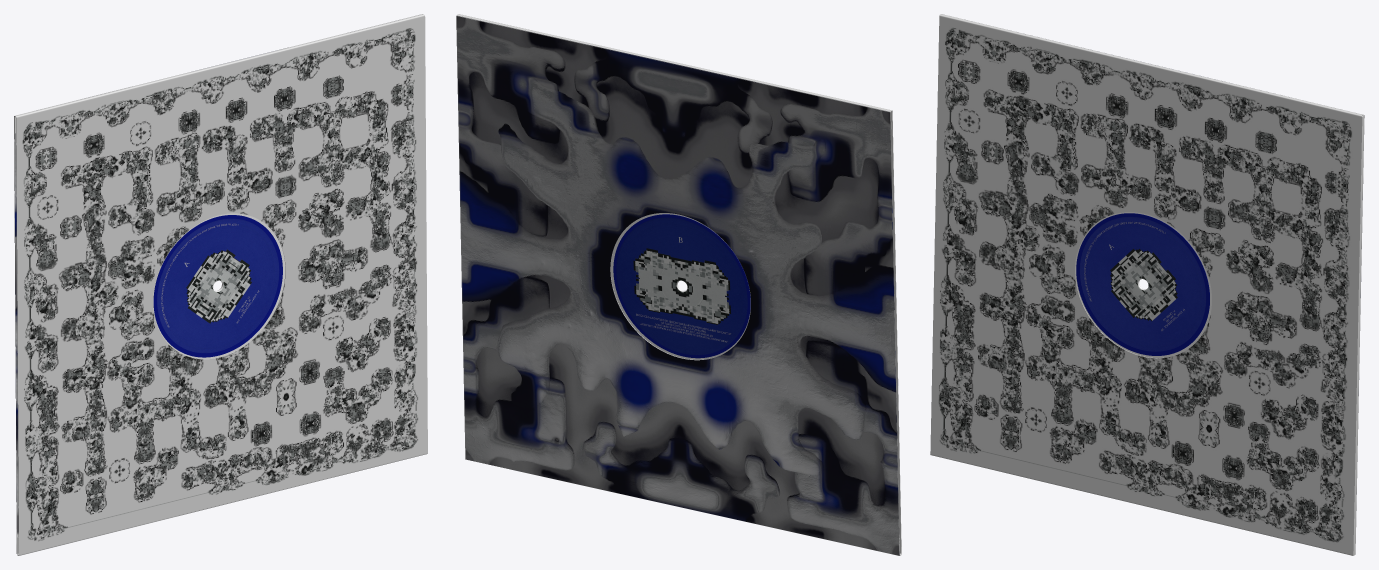
3 views of the same model, side by side, from view 1: azimuth 30°, elevation 25°; view 2: azimuth 150°, elevation 25°; view 3: azimuth 330°, elevation 25° (orthographic). The views are drawn at different scales.
Parts seen in each view (by area): view 1: Boole-Cover, Label Side A, LP; view 2: Boole-Cover, Label Side B, LP; view 3: Boole-Cover, Label Side A, LP.
Part boxes in pixels (x1,y1,x2,y2): Boole-Cover: [14, 14, 427, 555]; Label Side A: [153, 215, 282, 357]; LP: [153, 213, 285, 358]; Boole-Cover: [456, 14, 901, 555]; Label Side B: [613, 214, 750, 358]; LP: [610, 213, 750, 359]; Boole-Cover: [930, 14, 1364, 555]; Label Side A: [1076, 213, 1209, 355]; LP: [1075, 212, 1211, 357].
Size of the model in its own units: 31.57 by 31.59 by 1.83.
4 materials, 3 textured.
